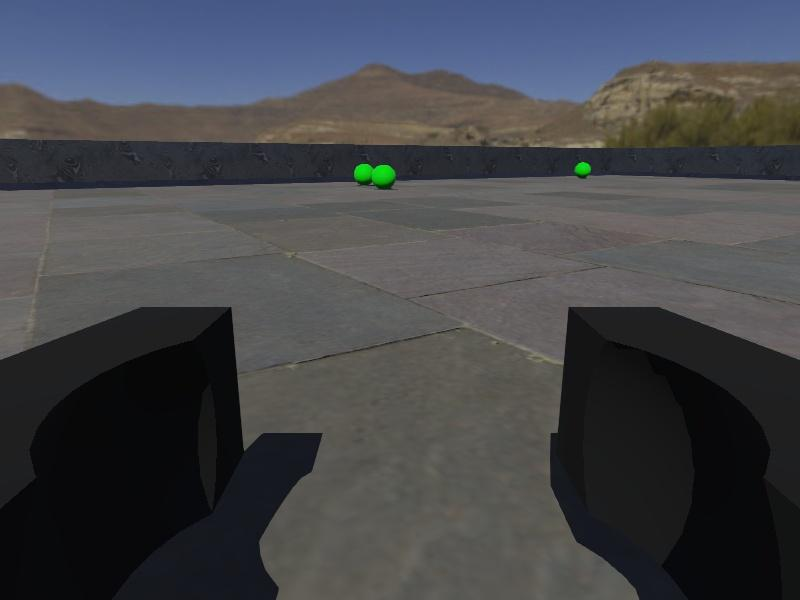green ball: (372, 163, 397, 191), (574, 161, 592, 178)
